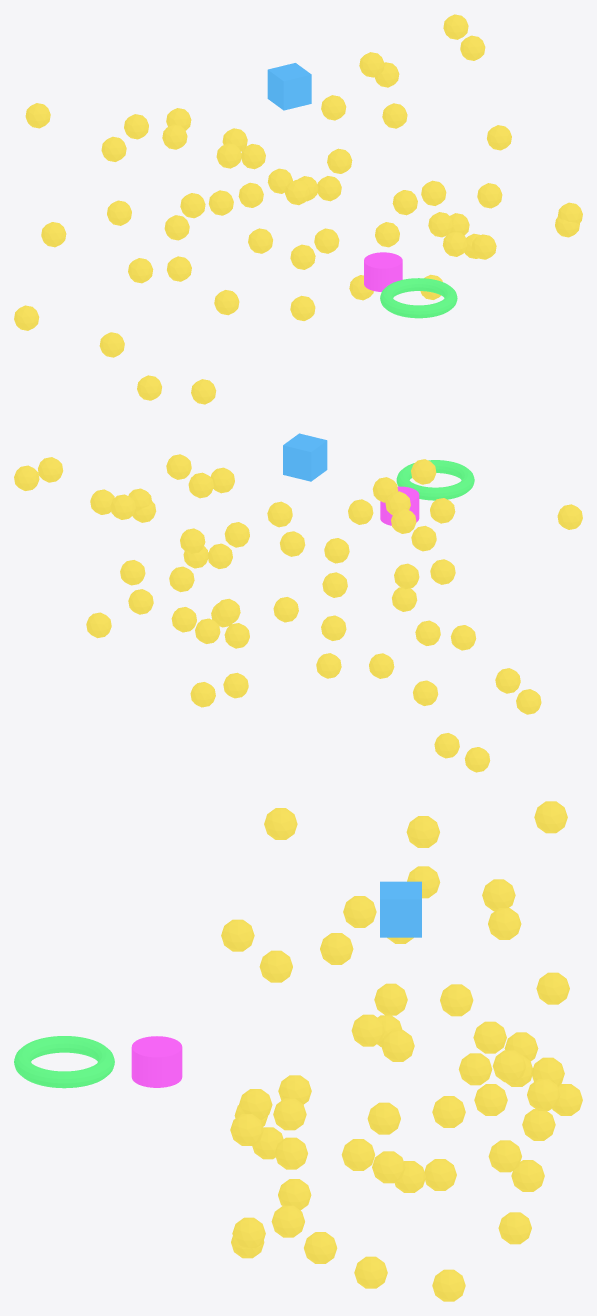
The model's file is insulin resistence.glb.
The picture shows the model from 3 angles, top to bottom: view 1: azimuth 30°, elevation 25°; view 2: azimuth 150°, elevation 25°; view 3: azimuth 270°, elevation 25°; orthographic projection. The views are drawn at different scales.
Parts seen in each view (by area): view 1: GLUT4_Transporter, Insulin, InsulinReceptor, Glucose_14, Glucose_21, Glucose_5, Glucose_19, Glucose_0, Glucose_8, Glucose_9, Glucose_13, Glucose_16 (+28 smaller); view 2: Insulin, GLUT4_Transporter, InsulinReceptor, Glucose_15, Glucose_31, Glucose_8, Glucose_23, Glucose_33, Glucose_44, Glucose_45, Glucose_4, Glucose_7 (+36 smaller); view 3: GLUT4_Transporter, InsulinReceptor, Insulin, Glucose_7, Glucose_2, Glucose_11, Glucose_15, Glucose_17, Glucose_23, Glucose_27, Glucose_30, Glucose_31 (+36 smaller).
Boxes of the visible parts, x1,y1,x2,y2 form: GLUT4_Transporter: [380, 278, 457, 318]; Insulin: [267, 63, 311, 110]; InsulinReceptor: [364, 252, 402, 291]; Glucose_14: [101, 136, 126, 161]; Glucose_21: [180, 193, 205, 218]; Glucose_5: [314, 228, 339, 253]; Glucose_19: [164, 215, 189, 240]; Glucose_0: [216, 143, 241, 168]; Glucose_8: [208, 190, 233, 215]; Glucose_9: [137, 375, 161, 400]; Glucose_13: [124, 114, 148, 139]; Glucose_16: [290, 295, 315, 320]; Insulin: [283, 433, 327, 481]; GLUT4_Transporter: [396, 460, 474, 500]; InsulinReceptor: [380, 486, 419, 525]; Glucose_15: [280, 531, 305, 556]; Glucose_31: [86, 612, 111, 638]; Glucose_8: [411, 525, 436, 551]; Glucose_23: [369, 653, 394, 678]; Glucose_33: [215, 598, 240, 624]; Glucose_44: [223, 672, 248, 698]; Glucose_45: [267, 501, 292, 527]; Glucose_4: [169, 566, 194, 592]; Glucose_7: [273, 597, 298, 622]; GLUT4_Transporter: [14, 1036, 114, 1088]; InsulinReceptor: [131, 1036, 182, 1087]; Insulin: [380, 881, 421, 937]; Glucose_7: [458, 1053, 492, 1085]; Glucose_2: [498, 1212, 531, 1244]; Glucose_11: [440, 984, 473, 1016]; Glucose_15: [273, 1098, 306, 1130]; Glucose_17: [259, 950, 292, 982]; Glucose_23: [367, 1102, 400, 1134]; Glucose_27: [492, 1050, 526, 1082]; Glucose_30: [534, 801, 567, 833]; Glucose_31: [432, 1269, 465, 1301].
Bounding box in the file's own units: 8.24 × 4.43 × 6.76.
